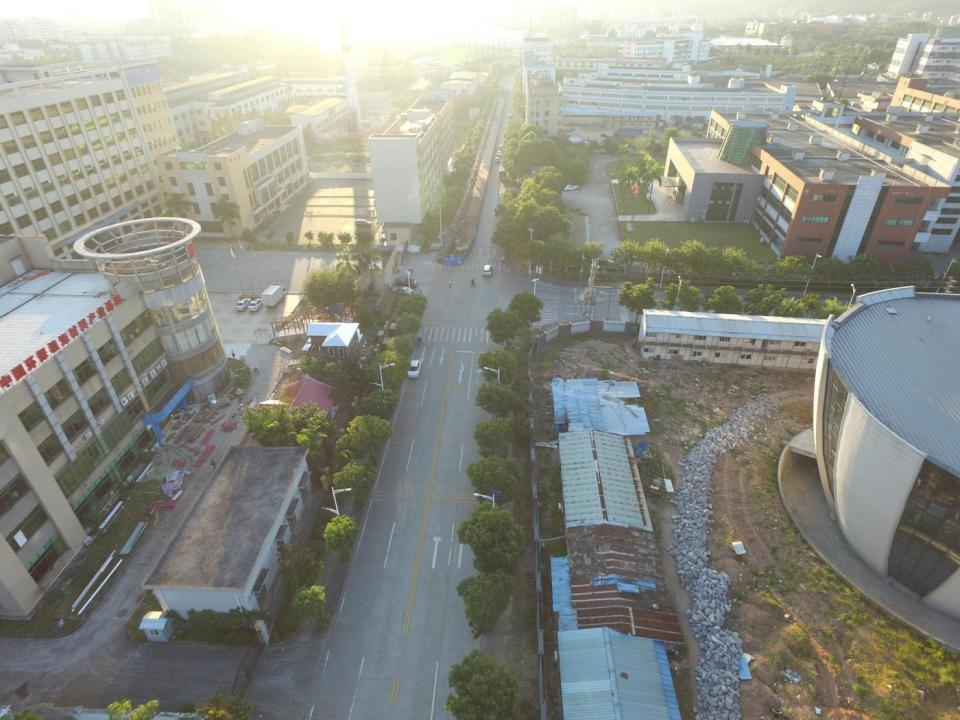car: (406, 358, 422, 378), (394, 277, 417, 289), (391, 285, 413, 296), (235, 297, 251, 311), (248, 298, 264, 312), (355, 218, 373, 228), (482, 264, 493, 276), (563, 184, 579, 190), (600, 132, 610, 138), (494, 157, 501, 164), (499, 144, 504, 152), (588, 136, 594, 142), (496, 151, 501, 157)
truck: (260, 284, 286, 308), (613, 128, 643, 139), (498, 166, 507, 180), (664, 119, 672, 127), (675, 121, 682, 128)
